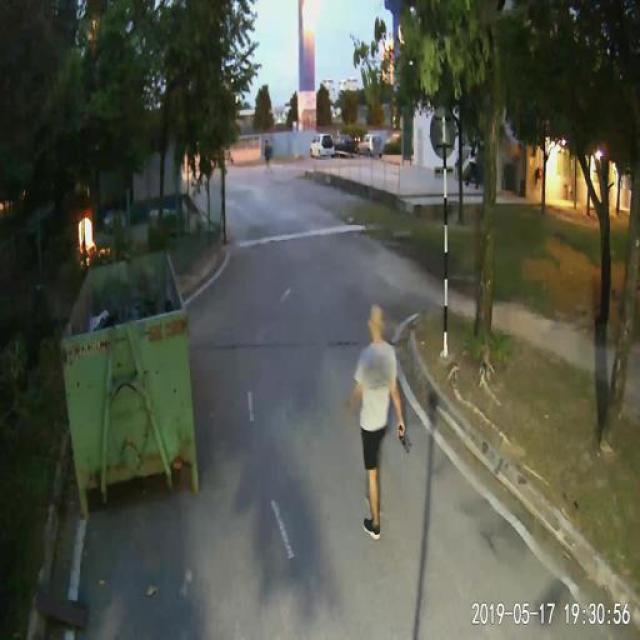senjata_api: (398, 424, 411, 457)
